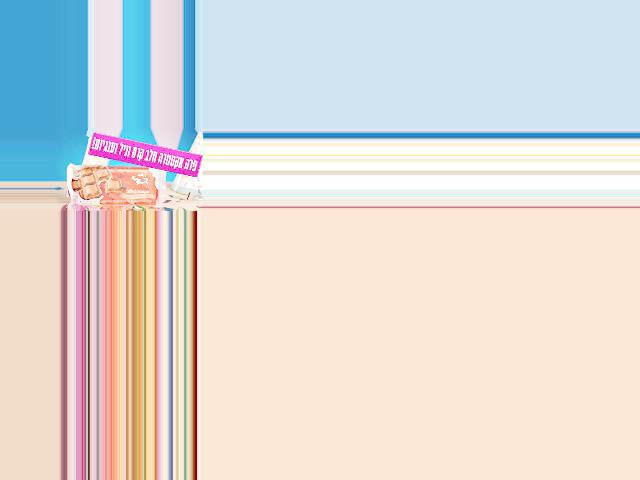chocolate: (64, 162, 168, 207)
